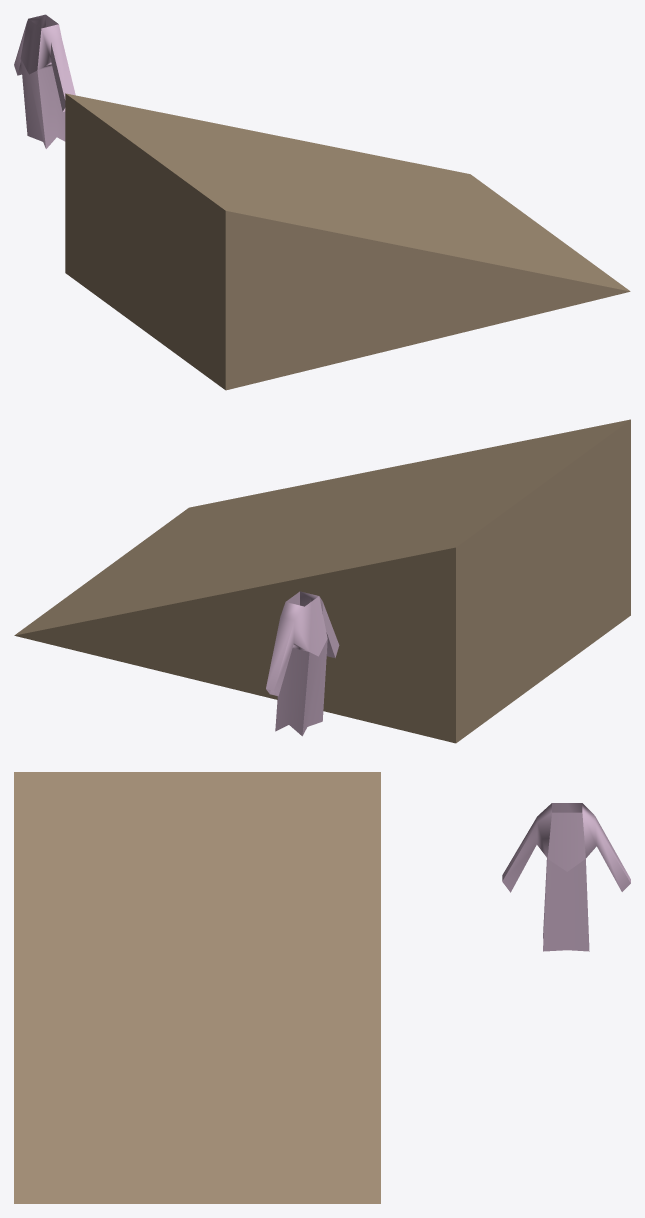
The model's file is ModeladoMax.fbx.
3 renders of one model, top to bottom at view 1: azimuth 30°, elevation 25°; view 2: azimuth 150°, elevation 25°; view 3: azimuth 270°, elevation 25°, orthographic. The views are drawn at different scales.
Visible parts, largest first — view 1: pCube1, pCube2; view 2: pCube1, pCube2; view 3: pCube1, pCube2.
Part boxes in pixels (box(x1,y1,x2,y2)): pCube1: box(65, 93, 630, 390); pCube2: box(14, 14, 75, 148); pCube1: box(14, 419, 630, 743); pCube2: box(266, 591, 339, 736); pCube1: box(14, 772, 380, 1203); pCube2: box(502, 803, 630, 951).
Size of the model in its own units: 1.7 by 0.7185 by 1.95.
